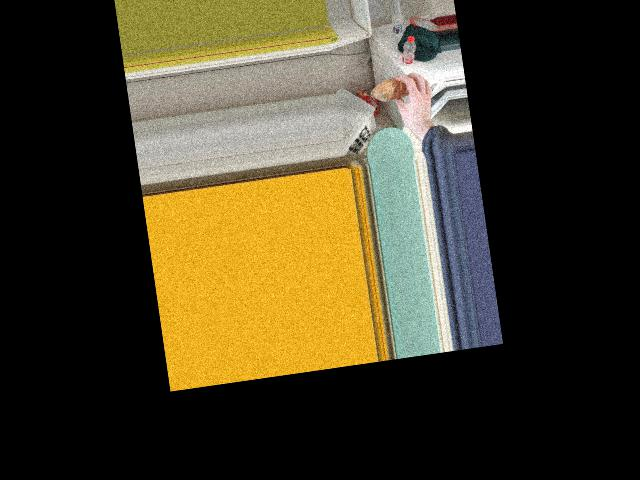sweet_potato: (381, 77, 416, 106)
